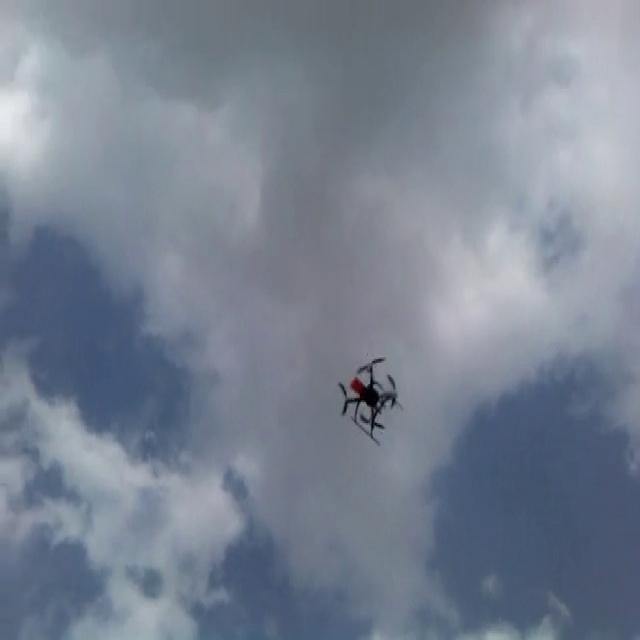drone: (335, 347, 404, 446)
